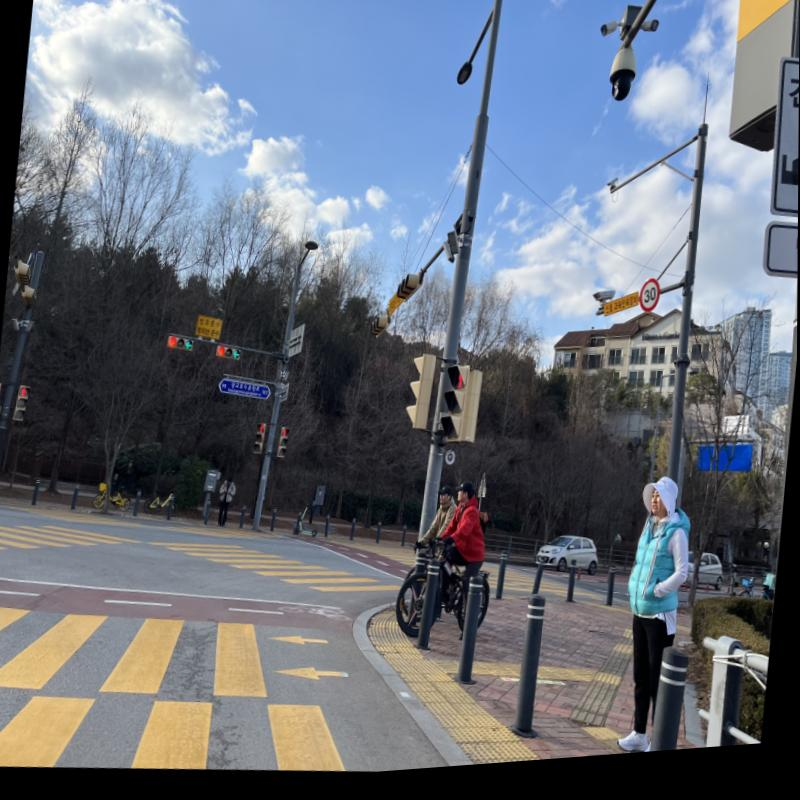left: (185, 343, 194, 353), (233, 353, 241, 364)
red: (169, 340, 178, 350), (217, 350, 226, 360)
